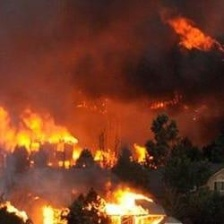fire: (1, 111, 147, 175), (2, 187, 173, 224)
